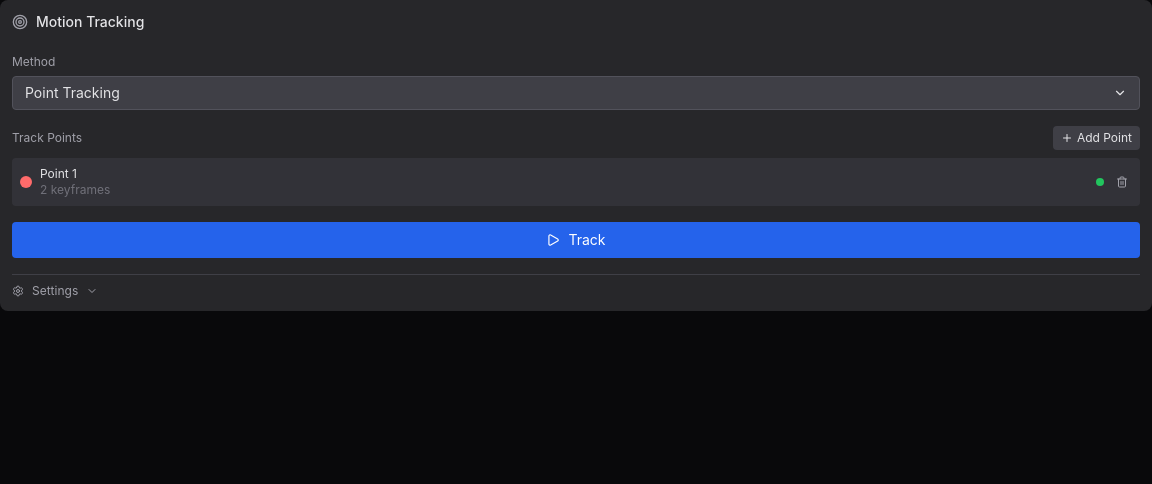
MotionTrackingControl › settings panel › should show settings when expanded
Click the button "Settings". click: (55, 291)
box: [12, 283, 98, 299]
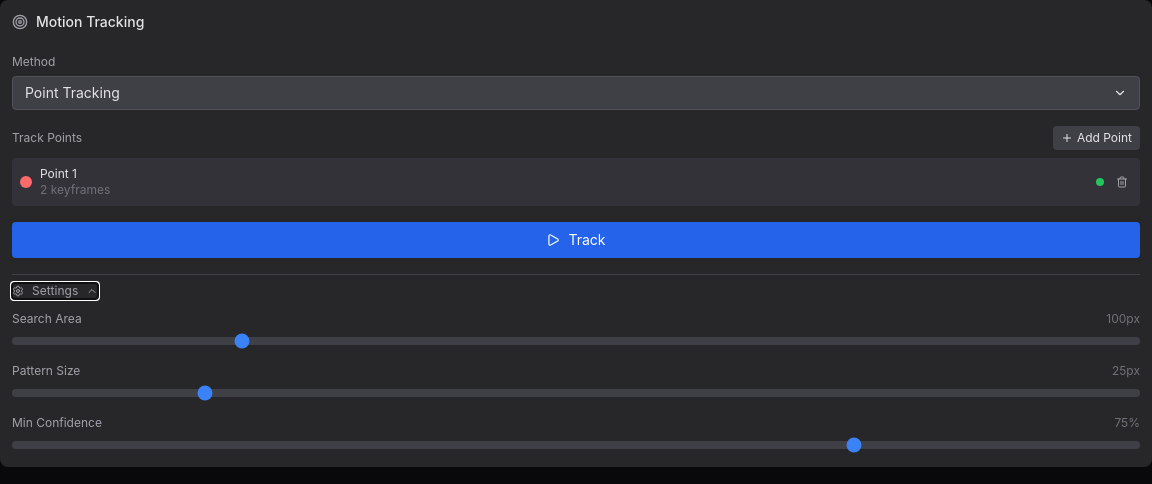
Expected: the text "Search Area" is shown, [12, 311, 82, 327]
Expected: the text "Pattern Size" is shown, [12, 363, 80, 379]
